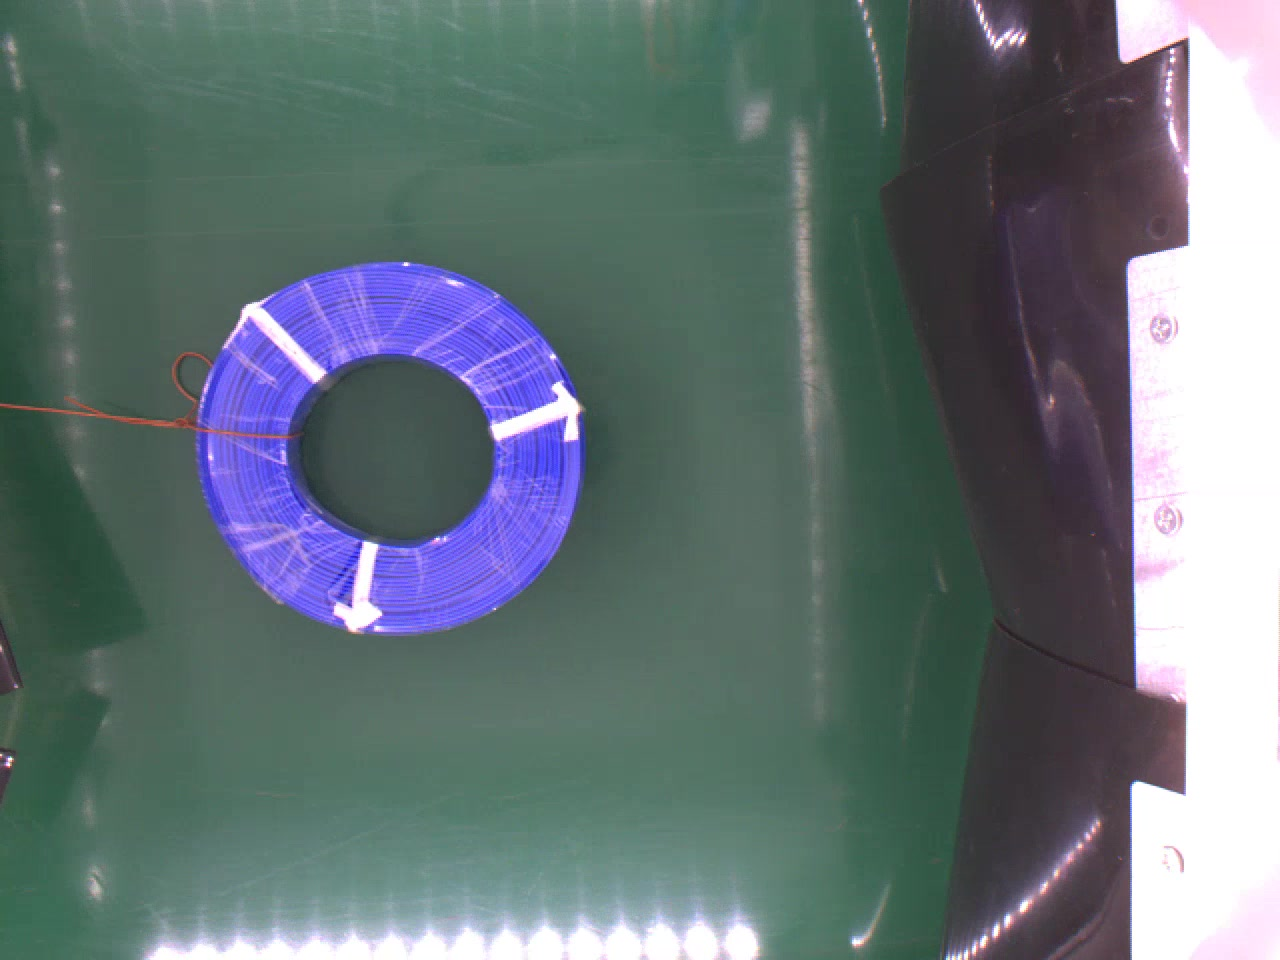blue: (191, 261, 585, 636)
